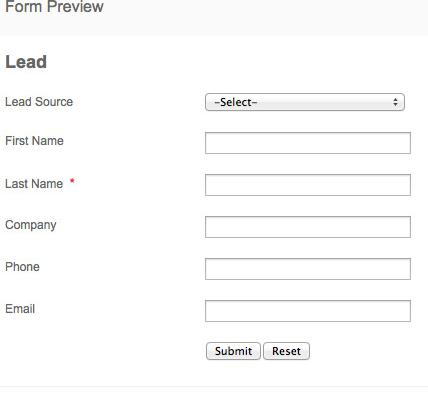button: (206, 341, 262, 362), (262, 341, 311, 362)
field: (203, 299, 414, 324), (203, 214, 413, 239), (203, 173, 413, 197), (203, 131, 412, 155), (204, 258, 414, 281), (202, 92, 405, 112)
field_with_label: (3, 129, 415, 158), (5, 297, 417, 326), (3, 256, 416, 284), (5, 172, 417, 200), (4, 213, 414, 241), (6, 89, 408, 115)
